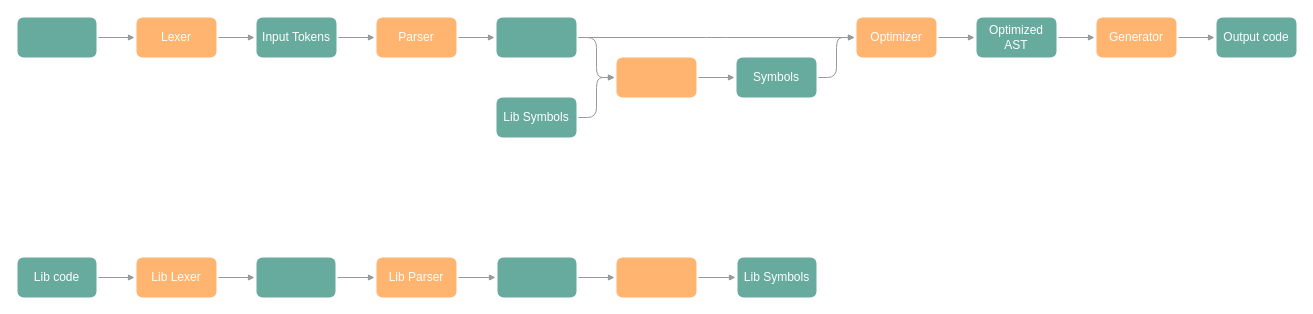
This 1313x314 diagram has some shape labels left out. Here are the shapes that lost their labels. From the top down, the centre of each, then its label:
the point at 56,37: Input code
the point at 536,37: Input AST
the point at 656,77: Symbolizer
the point at 295,277: Lib Tokens
the point at 536,277: Lib AST
the point at 656,277: Lib Symbolizer
